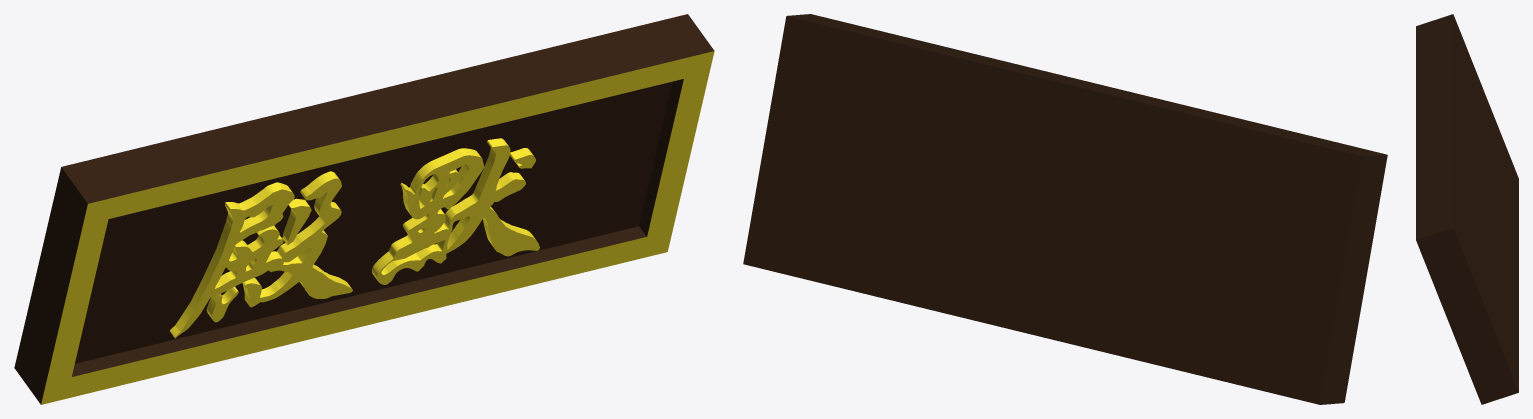
Rendered from plaque2.fbx.
3 views of the same model, side by side, from view 1: azimuth 30°, elevation 25°; view 2: azimuth 150°, elevation 25°; view 3: azimuth 270°, elevation 25° (orthographic). The views are drawn at different scales.
Visible parts, largest first — view 1: Cube.016, Text.001; view 2: Cube.016; view 3: Cube.016.
Part boxes in pixels (x1,y1,x2,y2): Cube.016: (14,14,714,404); Text.001: (170,138,539,338); Cube.016: (743,14,1387,404); Cube.016: (1416,14,1518,404).
Size of the model in its own units: 127 by 48.91 by 25.79.
